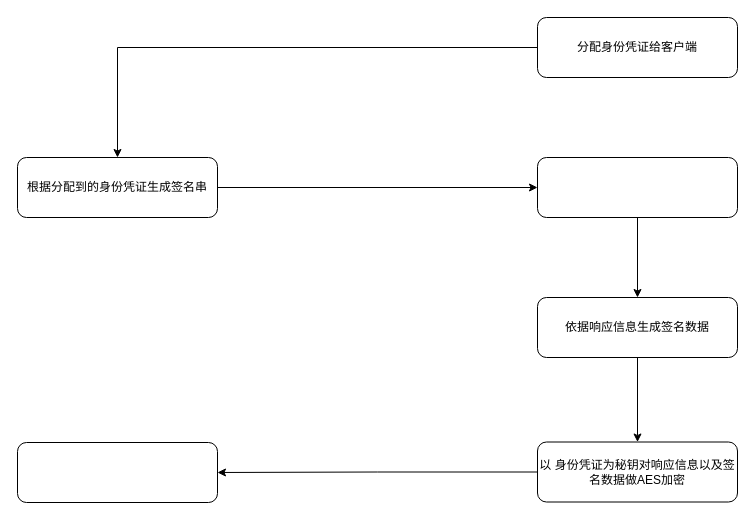
Image size: 755x520. Some labels were removed from this diagram. Each missing label, with the box of its shape:
以身份凭证对服务端返回响应数据做AES解密，获取数据原文，再依据数据签名进行验签，以保证数据未被篡改: (16, 442, 218, 502)
核对、对比签名串合法性: (536, 156, 738, 218)
